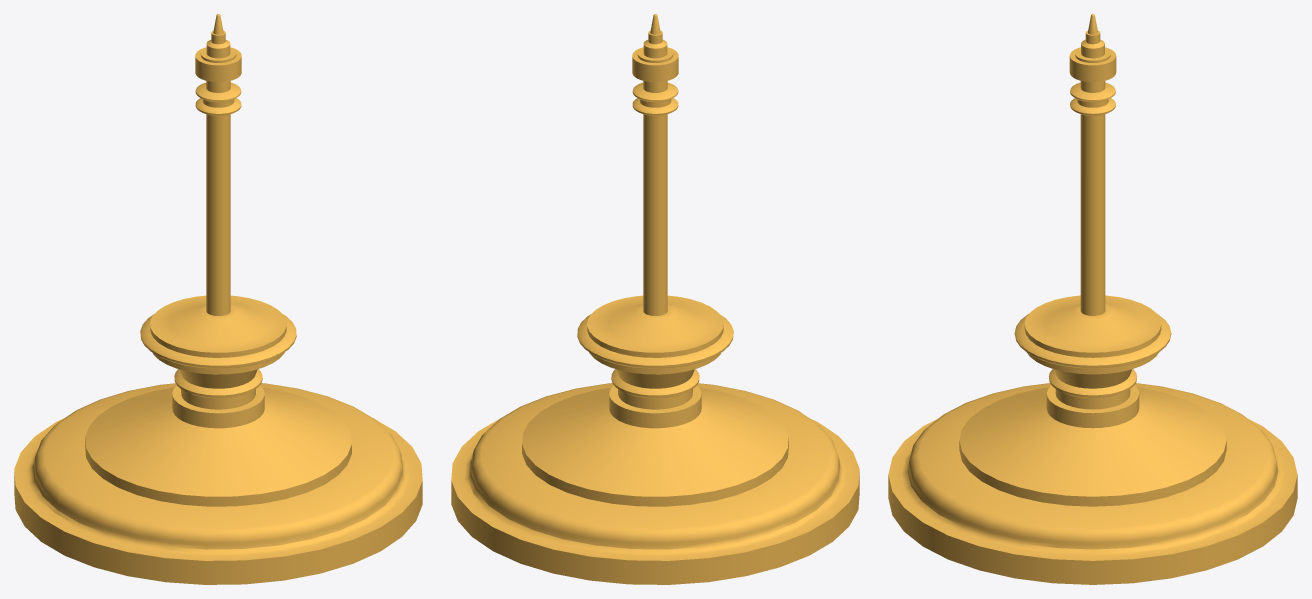
File: scale_body.fbx
The picture shows the model from 3 angles, left to right: view 1: azimuth 30°, elevation 25°; view 2: azimuth 150°, elevation 25°; view 3: azimuth 270°, elevation 25°; orthographic projection.
Parts seen in each view (by area): view 1: ScaleBody; view 2: ScaleBody; view 3: ScaleBody.
Boxes of the visible parts, x1=… form: ScaleBody: x1=14, y1=14, x2=422, y2=584; ScaleBody: x1=451, y1=14, x2=859, y2=584; ScaleBody: x1=888, y1=14, x2=1297, y2=584.
Bounding box in the file's own units: 153 × 200 × 153.
